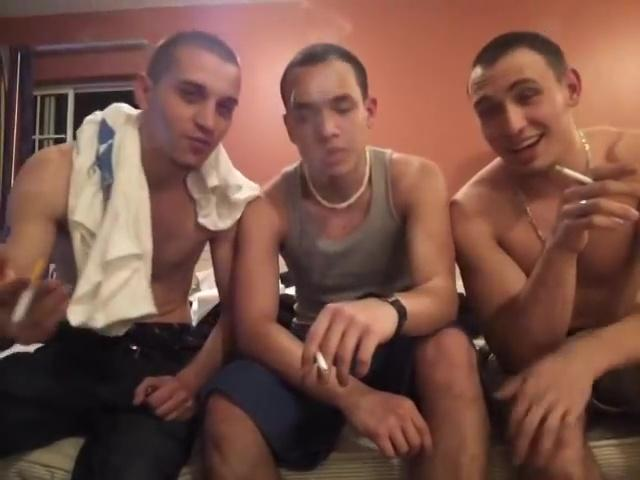cigarette: (9, 254, 48, 326), (555, 163, 601, 183), (314, 341, 332, 372)
